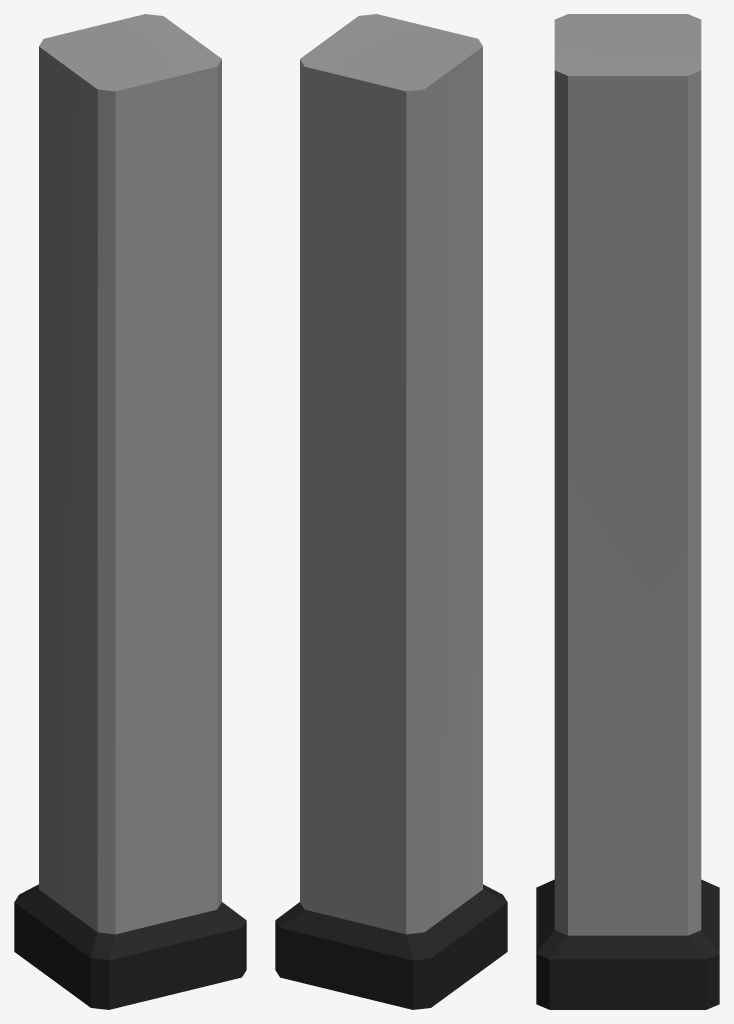
Rendered from Pillar.glb.
The picture shows the model from 3 angles, left to right: view 1: azimuth 30°, elevation 25°; view 2: azimuth 150°, elevation 25°; view 3: azimuth 270°, elevation 25°; orthographic projection.
Parts seen in each view (by area): view 1: Pillar; view 2: Pillar; view 3: Pillar.
Part boxes in pixels (x1,y1,x2,y2): Pillar: [14, 14, 246, 1009]; Pillar: [275, 14, 507, 1009]; Pillar: [536, 14, 719, 1009].
Size of the model in its own units: 0.5 by 2.79 by 0.5.
1 material, 1 textured.
